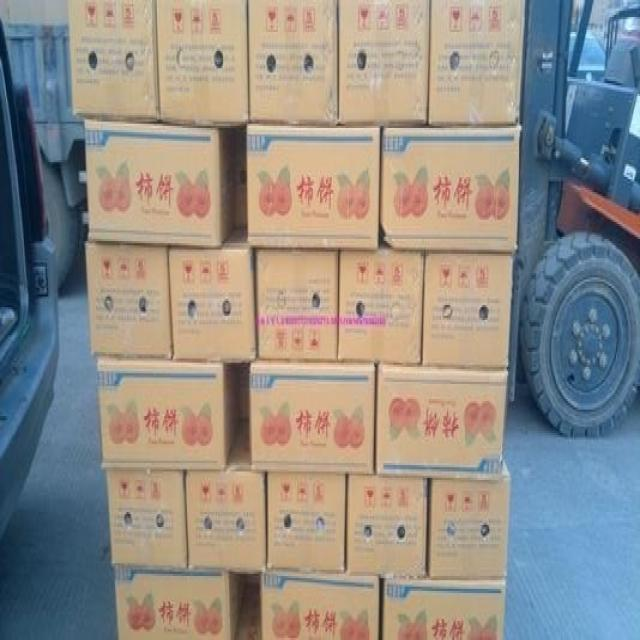box: (84, 119, 234, 248), (380, 125, 521, 251), (247, 125, 380, 250), (96, 357, 240, 470), (376, 363, 508, 482), (250, 360, 376, 475), (186, 421, 266, 573), (168, 226, 257, 362), (428, 0, 522, 124), (248, 0, 338, 125), (157, 1, 248, 124), (339, 0, 429, 124), (68, 0, 159, 121), (421, 251, 514, 368), (85, 243, 172, 360), (429, 458, 511, 579), (338, 250, 424, 364), (114, 564, 246, 638), (257, 249, 339, 360), (347, 475, 427, 579), (106, 468, 187, 567), (262, 571, 379, 638), (268, 473, 346, 571), (383, 578, 506, 638)
